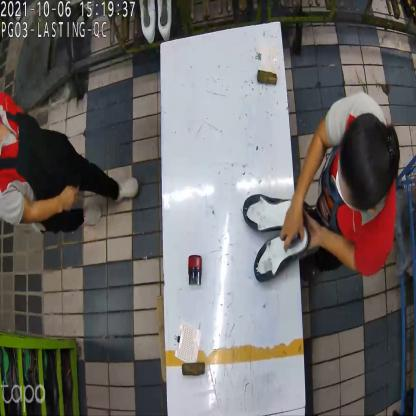shoes: (240, 188, 312, 282)
stamp: (282, 210, 305, 247), (185, 254, 204, 287)
